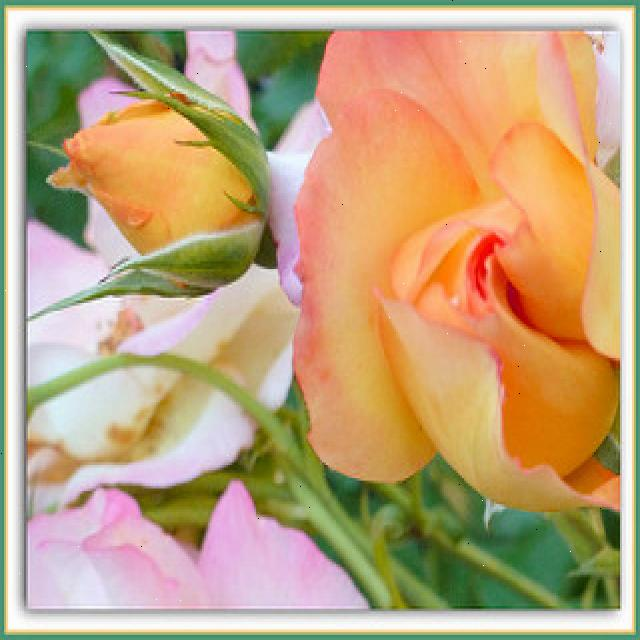Unbloomed: (288, 28, 620, 514)
